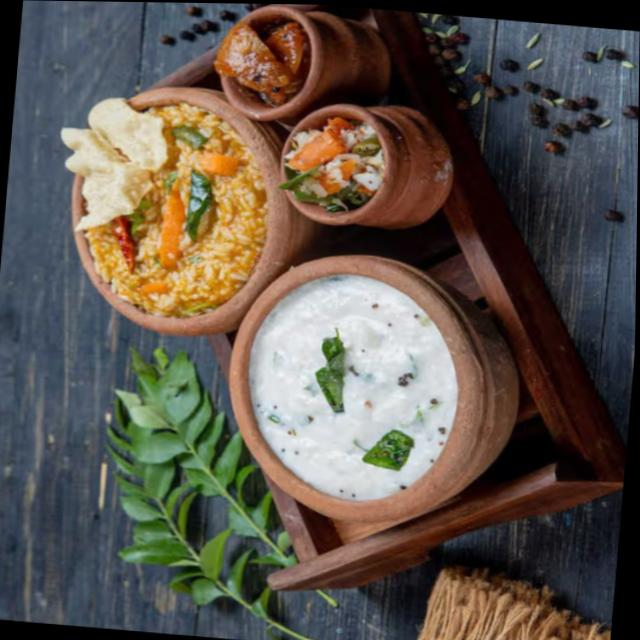CURD RICE: (244, 269, 460, 502)
PAPADAM: (58, 97, 168, 226)
PICKLE: (213, 19, 306, 106)
SAMBAR RICE: (89, 105, 270, 311)
